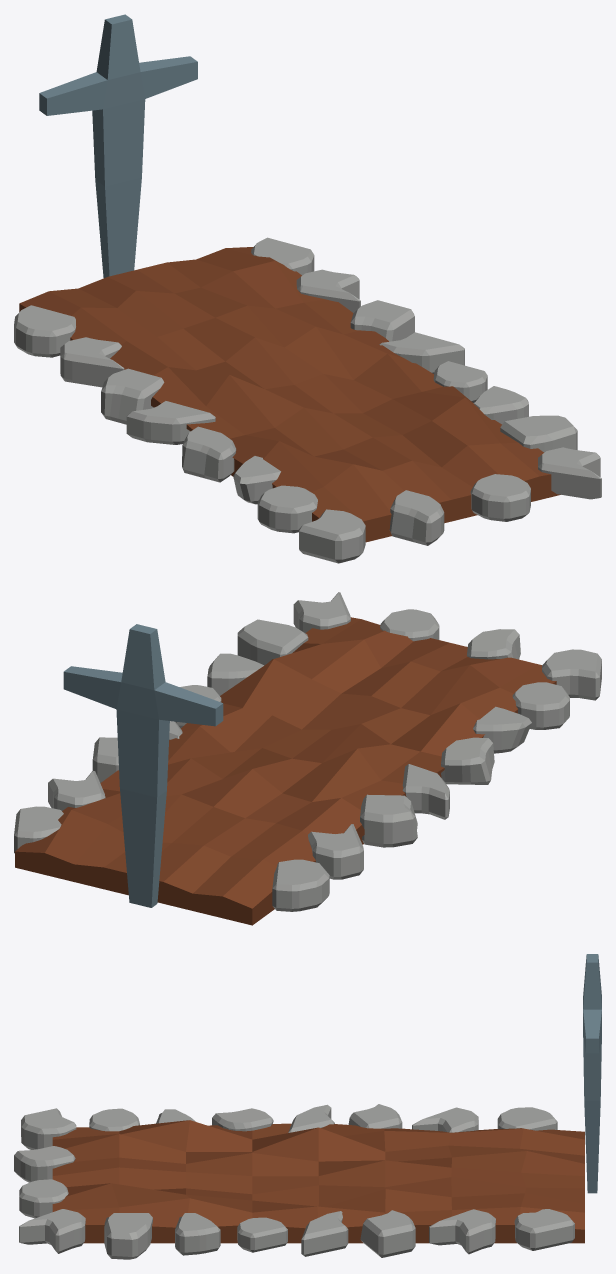
Rendered from Grave_2.glb.
The picture shows the model from 3 angles, top to bottom: view 1: azimuth 30°, elevation 25°; view 2: azimuth 150°, elevation 25°; view 3: azimuth 270°, elevation 25°; orthographic projection. The views are drawn at different scales.
Parts seen in each view (by area): view 1: Grave 2; view 2: Grave 2; view 3: Grave 2.
Part boxes in pixels (left/top/right/bottom): Grave 2: left=14, top=14, right=601, bottom=563; Grave 2: left=14, top=592, right=601, bottom=925; Grave 2: left=14, top=954, right=601, bottom=1259.
Size of the model in its own units: 1.08 by 0.8592 by 1.99.
